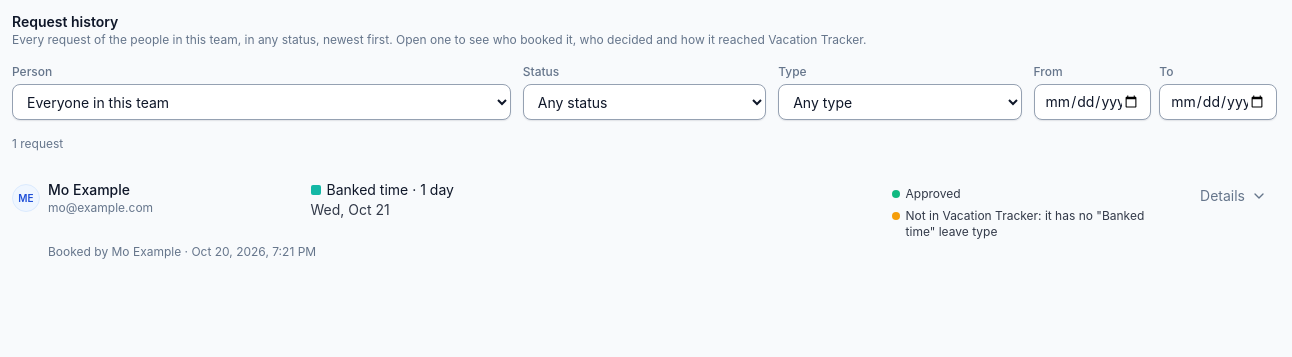
Scenario: RequestHistoryPanel (QA 10-21 #1) › Details opens the trail: booked, approved by the rules, and the skip reason
This screenshot has width=1292, height=357.
Click the button with aria-label "Show the history".
click(1234, 196)  # box [1190, 180, 1277, 212]
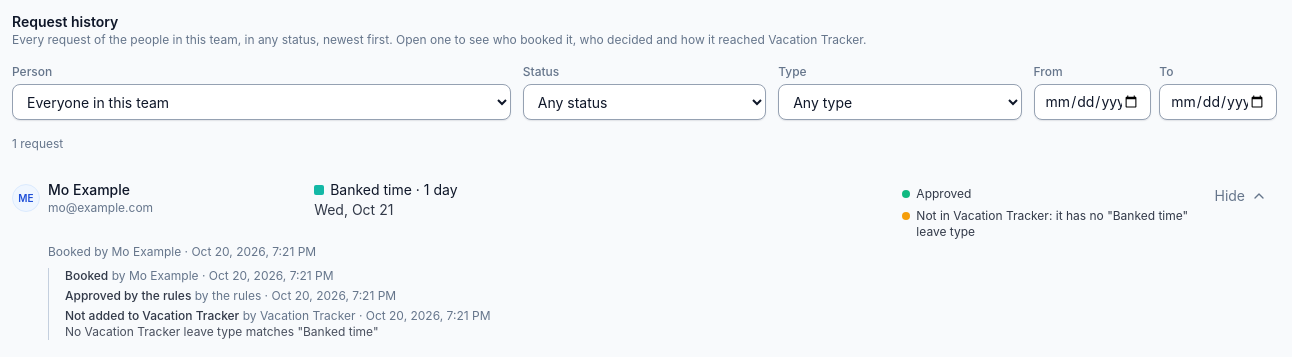
Now the text "Approved by the rules" is shown, box [65, 288, 191, 303]
Now the text "Not added to Vacation Tracker" is shown, box [65, 308, 239, 323]
Now the text "No Vacation Tracker leave type matches \"Banked time\"" is shown, box [65, 324, 378, 339]
